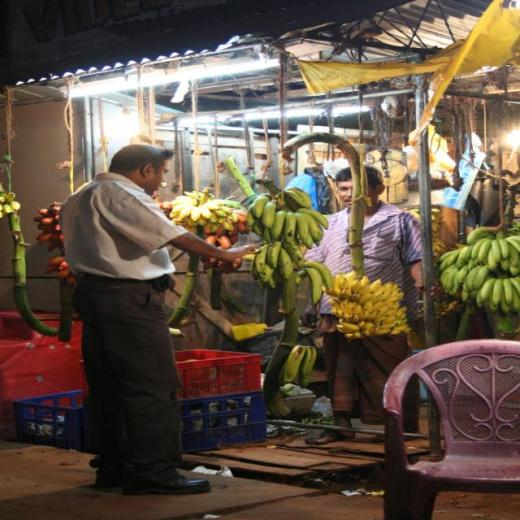Banana: (242, 185, 335, 306), (436, 221, 520, 315), (161, 192, 249, 276), (326, 270, 413, 338), (419, 207, 465, 320), (32, 204, 78, 288), (285, 345, 306, 382), (299, 346, 317, 388), (0, 192, 20, 218), (263, 200, 276, 227)
